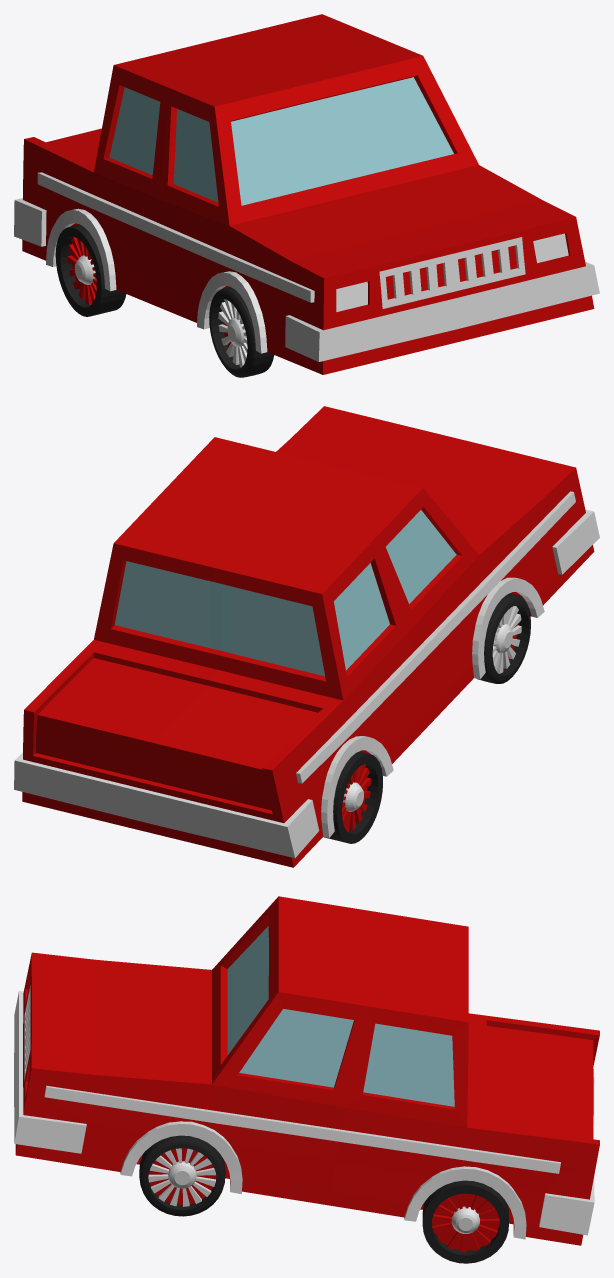
The model's file is Coche.fbx.
3 views of the same model, one above another, from view 1: azimuth 30°, elevation 25°; view 2: azimuth 150°, elevation 25°; view 3: azimuth 270°, elevation 25° (orthographic). The views are drawn at different scales.
Parts seen in each view (by area): view 1: Coche; view 2: Coche; view 3: Coche.
Part boxes in pixels (left/top/right/bottom): Coche: left=14, top=14, right=599, bottom=377; Coche: left=14, top=406, right=599, bottom=867; Coche: left=14, top=896, right=599, bottom=1263.
Size of the model in its own units: 183 by 167 by 348.
